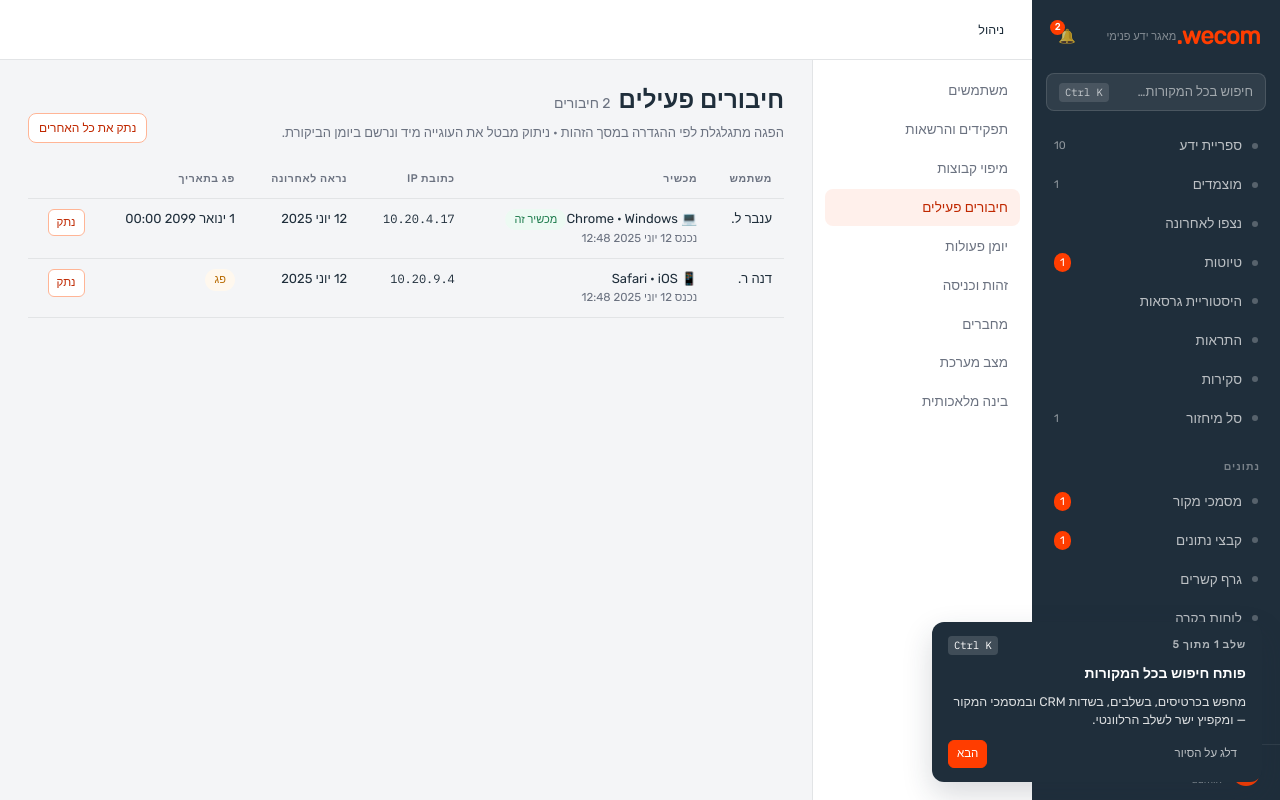
Test case: admin · sessions › confirms before revoking and reports it
Click the button with aria-label "נתק דנה ר.". click: [66, 283]
box: top-left (48, 269), bottom-right (85, 297)
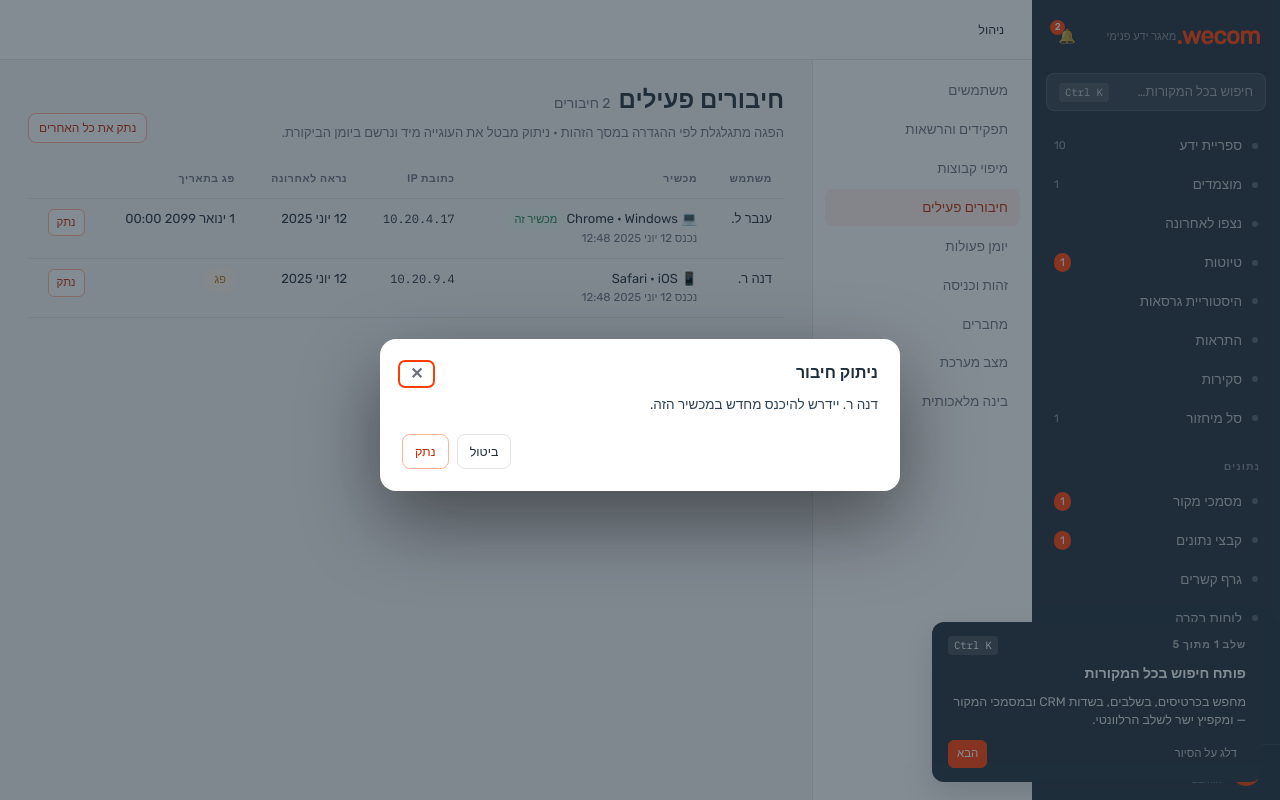
Expected: the text "דנה ר. יידרש להיכנס מחדש במכשיר הזה." is shown, top-left (650, 396), bottom-right (878, 412)
Click the button "נתק". click: [425, 451]
box: top-left (402, 434), bottom-right (449, 469)
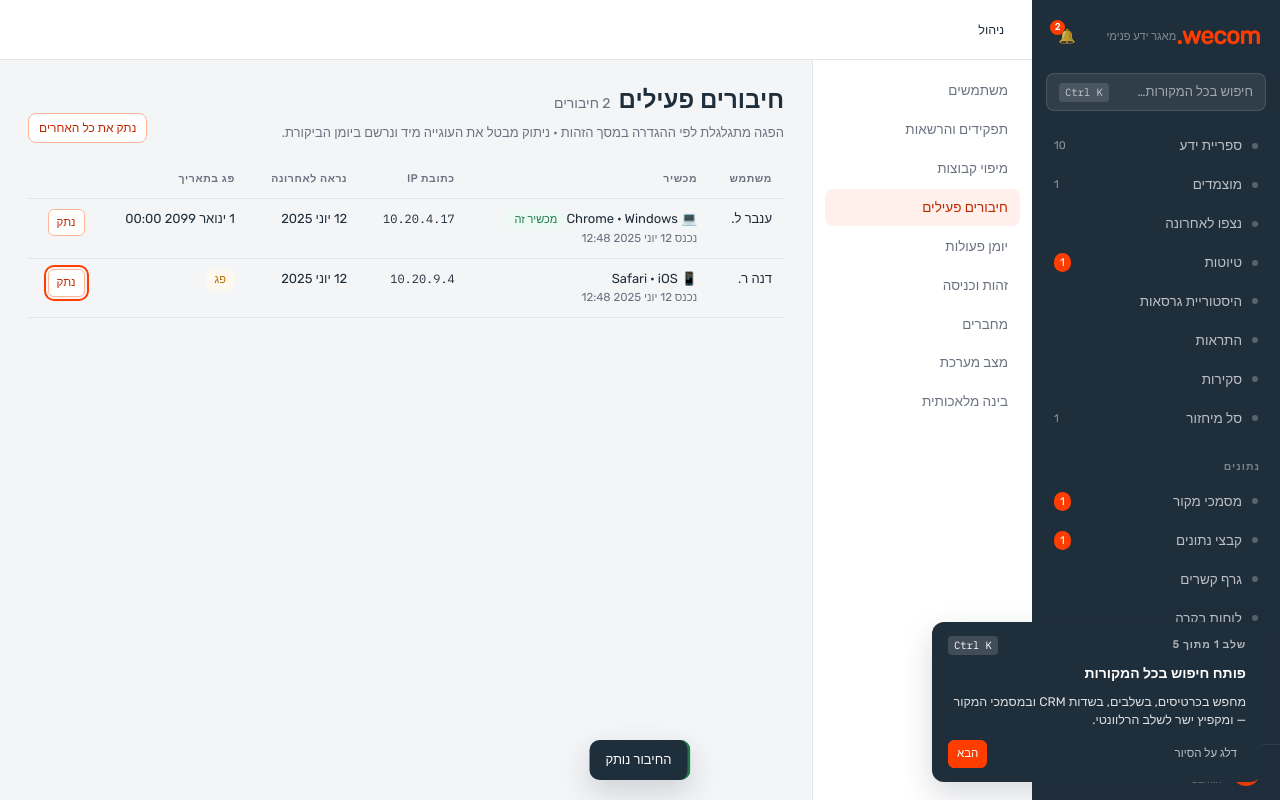
Expected: the text "החיבור נותק" is shown, top-left (606, 750), bottom-right (672, 770)
